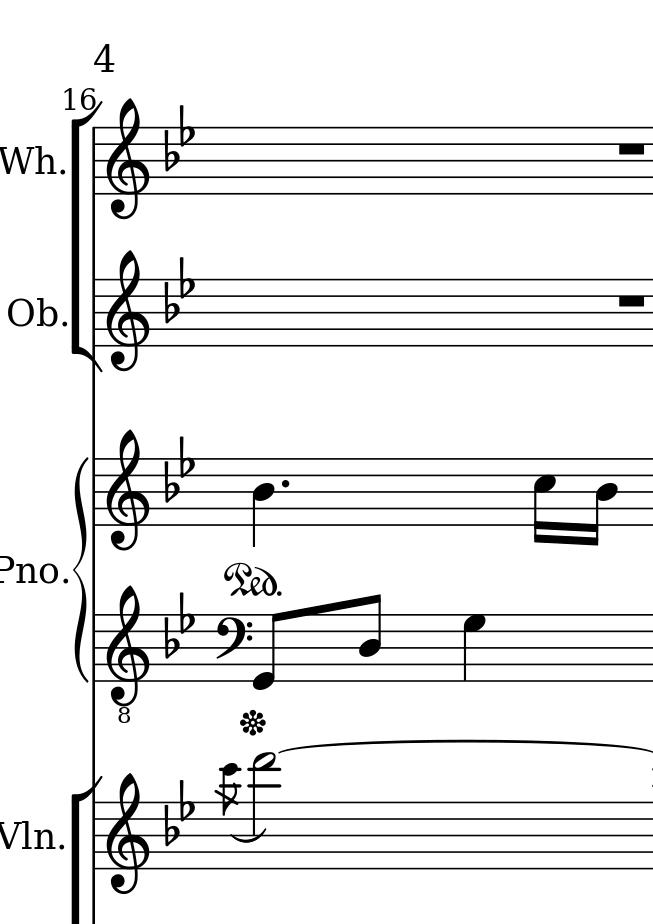1: (62, 87, 75, 113)
16_4: (586, 456, 619, 548)
16_5: (532, 456, 557, 546)
2_13: (248, 751, 278, 872)
4: (93, 41, 116, 73)
4_4: (250, 458, 276, 549)
4_7: (461, 613, 488, 684)
6: (80, 84, 97, 111)
8_0: (251, 610, 286, 692)
8_4: (357, 592, 383, 684)
Acciaccature: (217, 760, 244, 870)
B_F: (163, 586, 195, 660), (162, 435, 196, 502), (162, 103, 195, 171), (163, 255, 196, 322), (163, 777, 195, 845)
Brace: (71, 454, 90, 686)
Bracke: (69, 99, 103, 378)
Fclef: (213, 612, 253, 681)
Gclef: (103, 772, 150, 896), (104, 248, 150, 373), (104, 97, 150, 221), (104, 429, 150, 551)
Lower_Gclef: (103, 584, 151, 725)
Ob: (6, 293, 61, 333)
Pno: (1, 554, 58, 587)
Rests1: (613, 139, 649, 159), (613, 290, 648, 310)
Single_barline: (87, 279, 101, 351), (87, 128, 102, 193), (88, 802, 102, 870), (89, 458, 102, 527), (89, 616, 102, 681)
Vln: (1, 816, 58, 857)
Wh: (1, 142, 58, 175)
dot: (277, 477, 292, 491)
